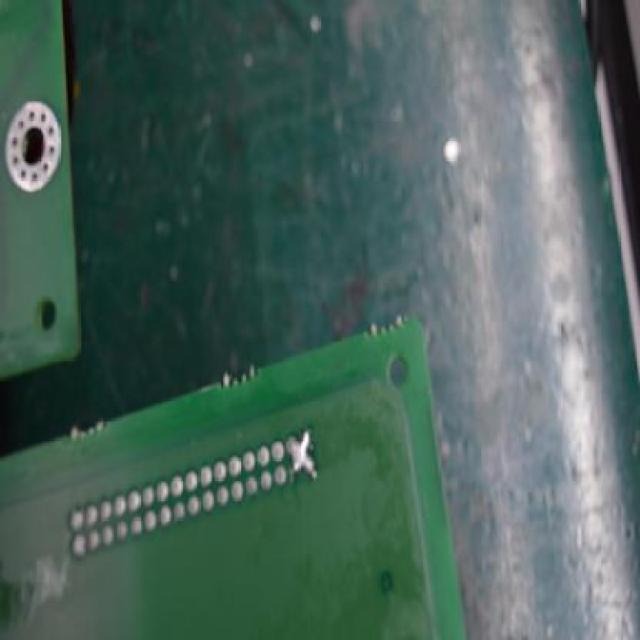Soldering shorted: (286, 426, 316, 479)
